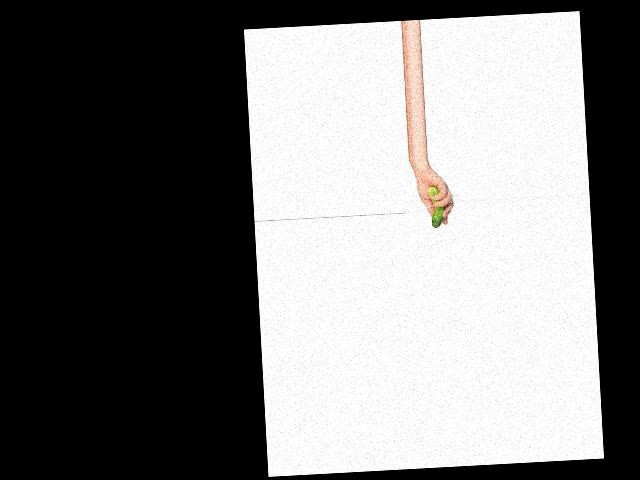cucumber: (428, 185, 445, 228)
